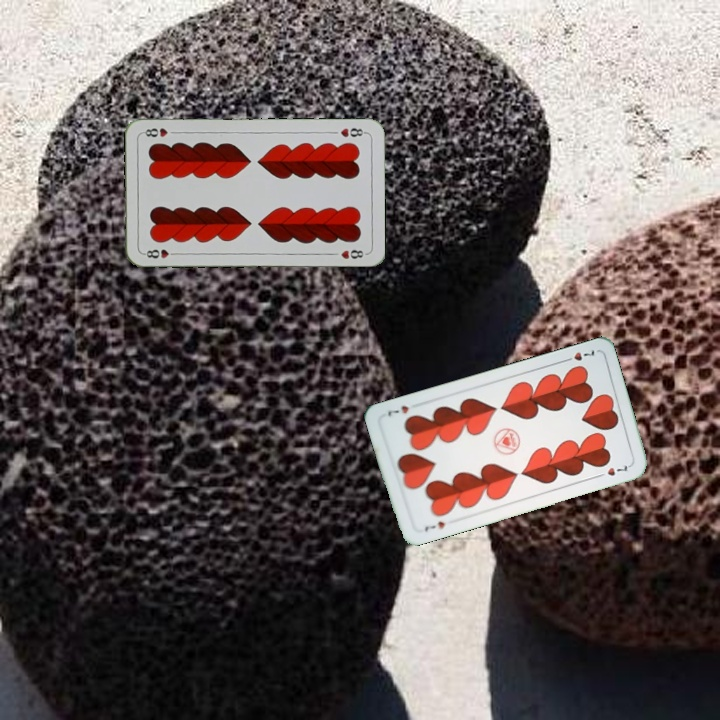H7: (559, 345, 597, 365), (421, 517, 447, 535)
H8: (140, 245, 180, 261), (336, 124, 368, 140)
